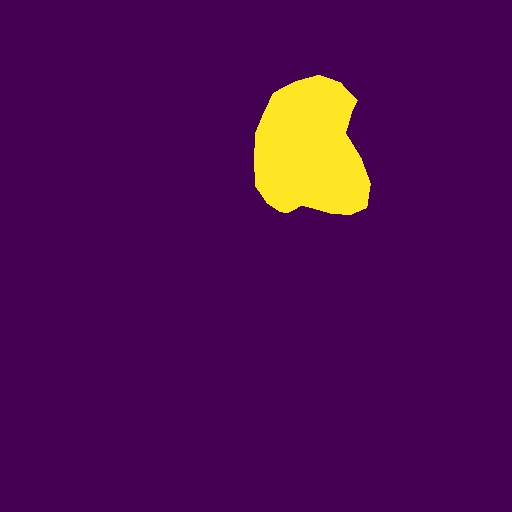Gliomia_tumour: (254, 75, 371, 215)
